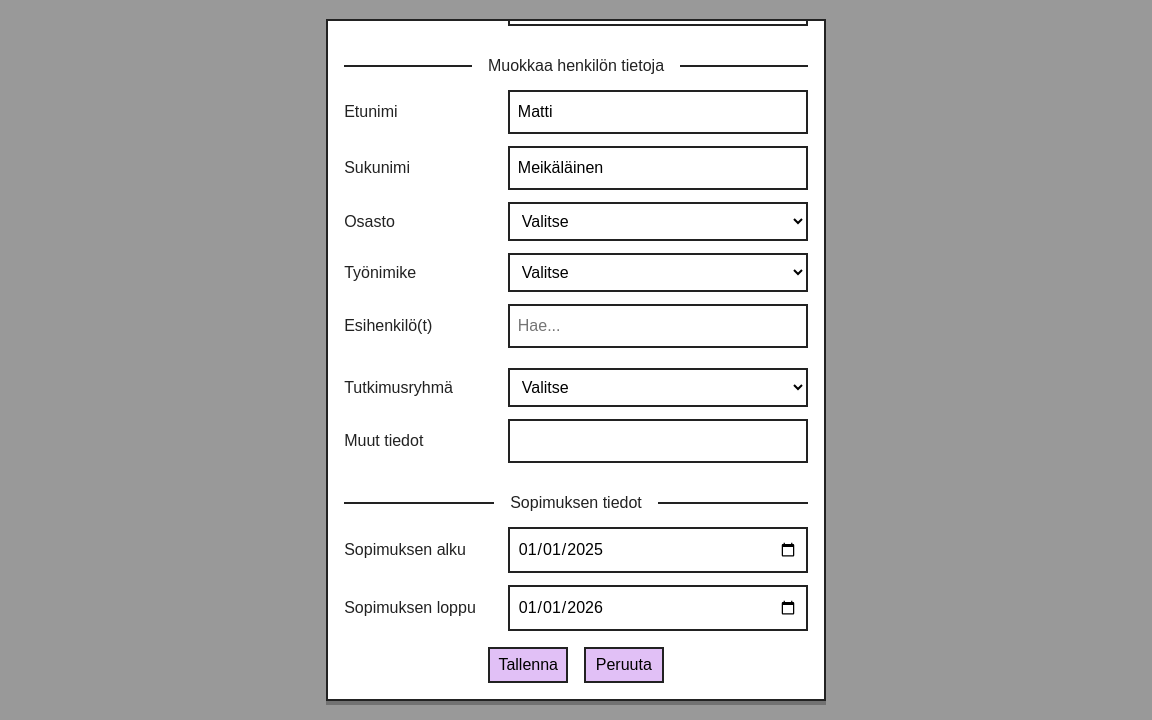
Test: PersonModal › confirmation button if saving
(page scrolled)
Click the button "Tallenna" at coordinates (528, 665), box [488, 647, 568, 683]
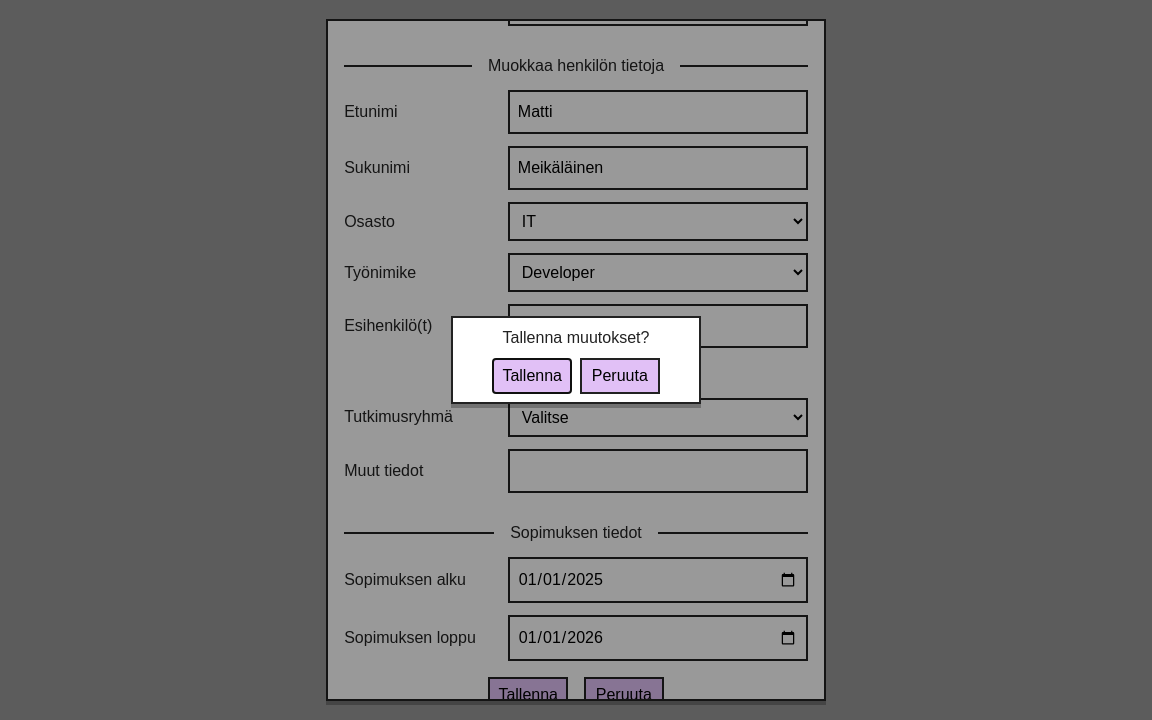
Expected: the heading "Tallenna muutokset?" is shown, [503, 326, 649, 350]
